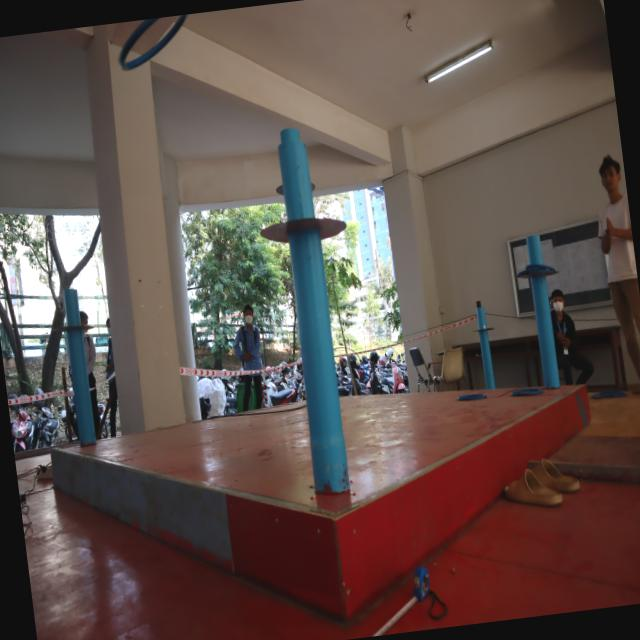pole: (246, 126, 356, 320), (50, 284, 110, 383), (512, 228, 578, 316), (459, 295, 506, 358)
